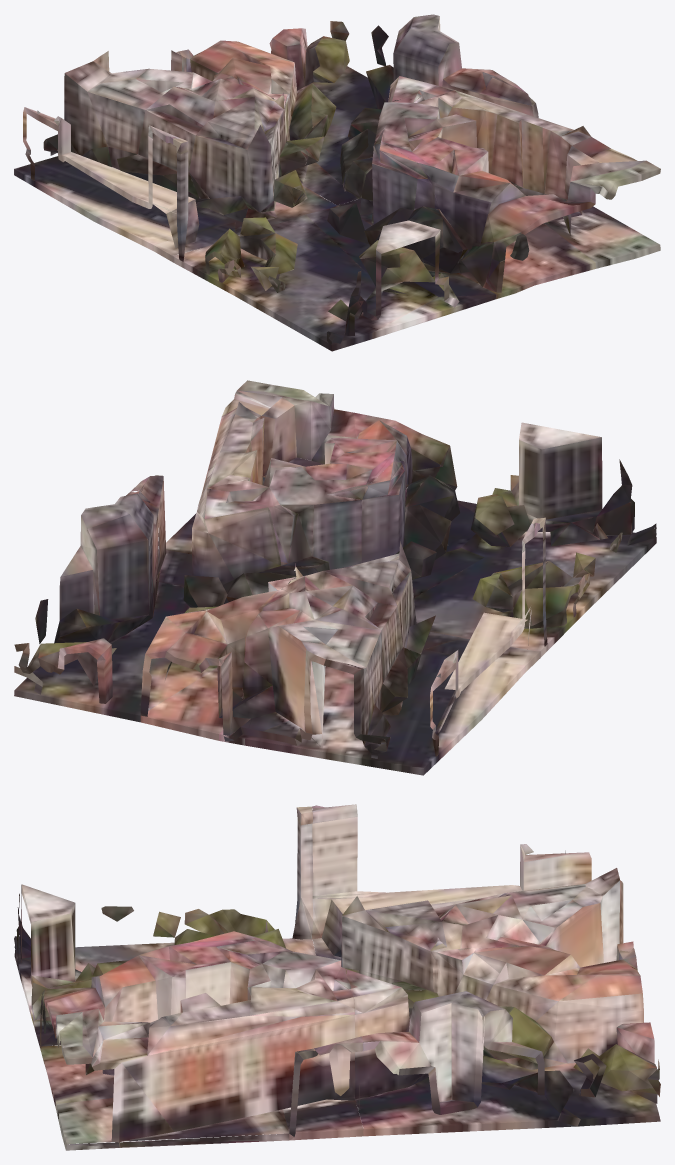
3 views of the same model, one above another, from view 1: azimuth 30°, elevation 25°; view 2: azimuth 150°, elevation 25°; view 3: azimuth 270°, elevation 25° (orthographic). The views are drawn at different scales.
Parts seen in each view (by area): view 1: Mesh_0; view 2: Mesh_0; view 3: Mesh_0.
Boxes of the visible parts, x1=… form: Mesh_0: x1=14, y1=14, x2=660, y2=351; Mesh_0: x1=14, y1=380, x2=656, y2=775; Mesh_0: x1=14, y1=804, x2=660, y2=1150.
Size of the model in its own units: 133 by 41.14 by 165.
Materials: 1 (1 with a texture image).
